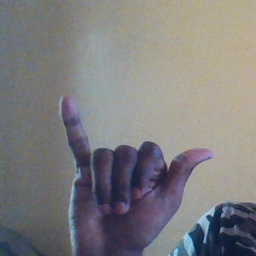J: (53, 93, 215, 249)
